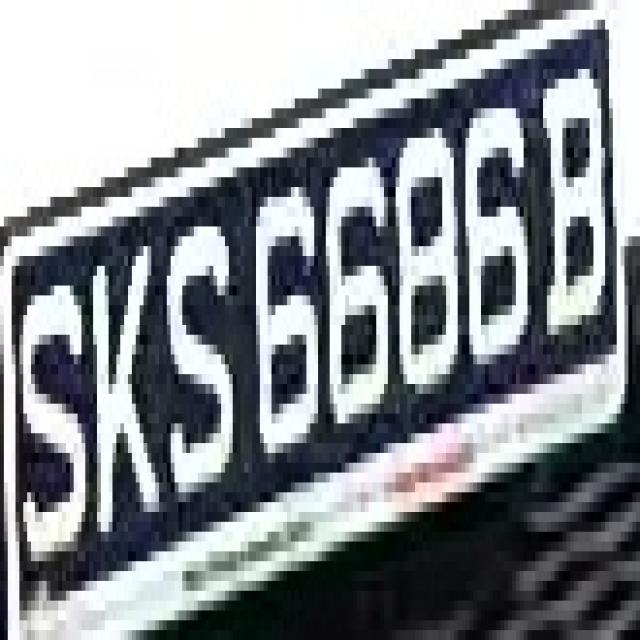6: (248, 148, 326, 472), (458, 89, 535, 394), (322, 138, 392, 453)
8: (392, 119, 469, 424)
B: (536, 39, 624, 344)
K: (81, 216, 159, 542)
S: (151, 177, 237, 512), (15, 226, 86, 591)
